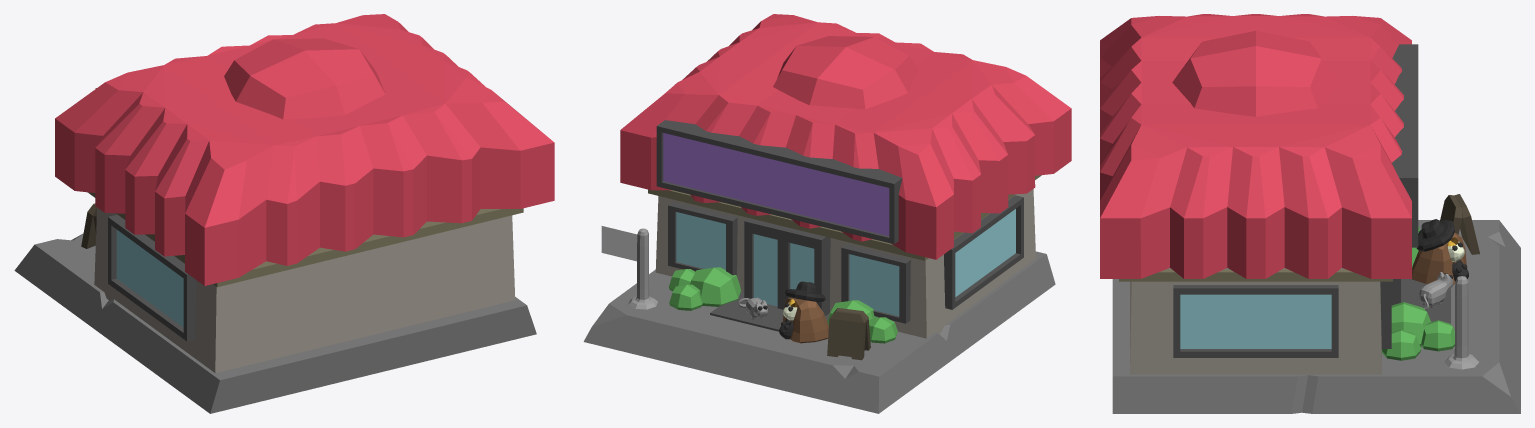
Rendered from Trenchcoats.fbx.
3 renders of one model, left to right at view 1: azimuth 30°, elevation 25°; view 2: azimuth 150°, elevation 25°; view 3: azimuth 270°, elevation 25°, orthographic. The views are drawn at different scales.
Visible parts, largest first — view 1: Cube.001, Cube, Cube.010, Cube.007; view 2: Cube, Cube.001, Cube.006, Cube.010, Cube.002, Cube.007, Cube.004, Cube.011, Plane, Cube.005; view 3: Cube.001, Cube, Cube.010, Cube.006, Cube.002, Cube.004, Cube.011, Cube.007, Cube.005, Cube.003.
Part boxes in pixels (x1,y1,x2,y2): Cube.001: [55, 14, 554, 285]; Cube: [14, 192, 536, 413]; Cube.010: [224, 38, 385, 119]; Cube.007: [81, 203, 96, 248]; Cube: [583, 175, 1055, 413]; Cube.001: [620, 14, 1071, 259]; Cube.006: [656, 120, 902, 244]; Cube.010: [773, 36, 918, 109]; Cube.002: [669, 267, 897, 343]; Cube.007: [827, 308, 870, 360]; Cube.004: [779, 297, 828, 343]; Cube.011: [628, 228, 657, 309]; Plane: [601, 226, 637, 261]; Cube.005: [785, 281, 825, 301]; Cube.001: [1100, 14, 1411, 278]; Cube: [1112, 220, 1520, 413]; Cube.010: [1172, 30, 1339, 116]; Cube.006: [1392, 44, 1418, 247]; Cube.002: [1382, 226, 1454, 360]; Cube.004: [1411, 232, 1468, 284]; Cube.011: [1444, 276, 1478, 369]; Cube.007: [1440, 194, 1479, 254]; Cube.005: [1416, 219, 1454, 251]; Cube.003: [1419, 272, 1453, 307].
Size of the model in its own units: 1098 by 819 by 1097.
